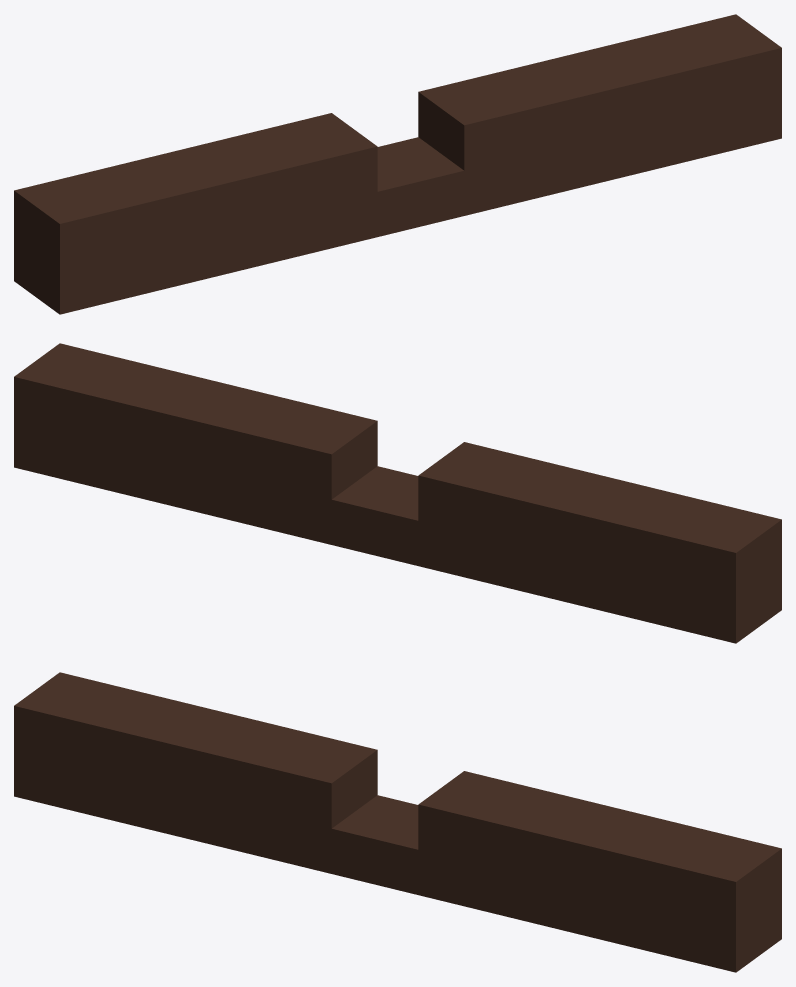
The model's file is 825_cross_lap_ceiling_beam.fbx.
3 renders of one model, top to bottom at view 1: azimuth 30°, elevation 25°; view 2: azimuth 150°, elevation 25°; view 3: azimuth 330°, elevation 25°, orthographic.
Visible parts, largest first — view 1: 825_cross_lap_ceiling_beam; view 2: 825_cross_lap_ceiling_beam; view 3: 825_cross_lap_ceiling_beam.
Part boxes in pixels (bbox=[...]): 825_cross_lap_ceiling_beam: bbox=[14, 14, 781, 314]; 825_cross_lap_ceiling_beam: bbox=[14, 343, 781, 643]; 825_cross_lap_ceiling_beam: bbox=[14, 672, 781, 972].
Bounding box in the file's own units: 2 × 0.24 × 0.22.
Materials: 1 (1 with a texture image).
